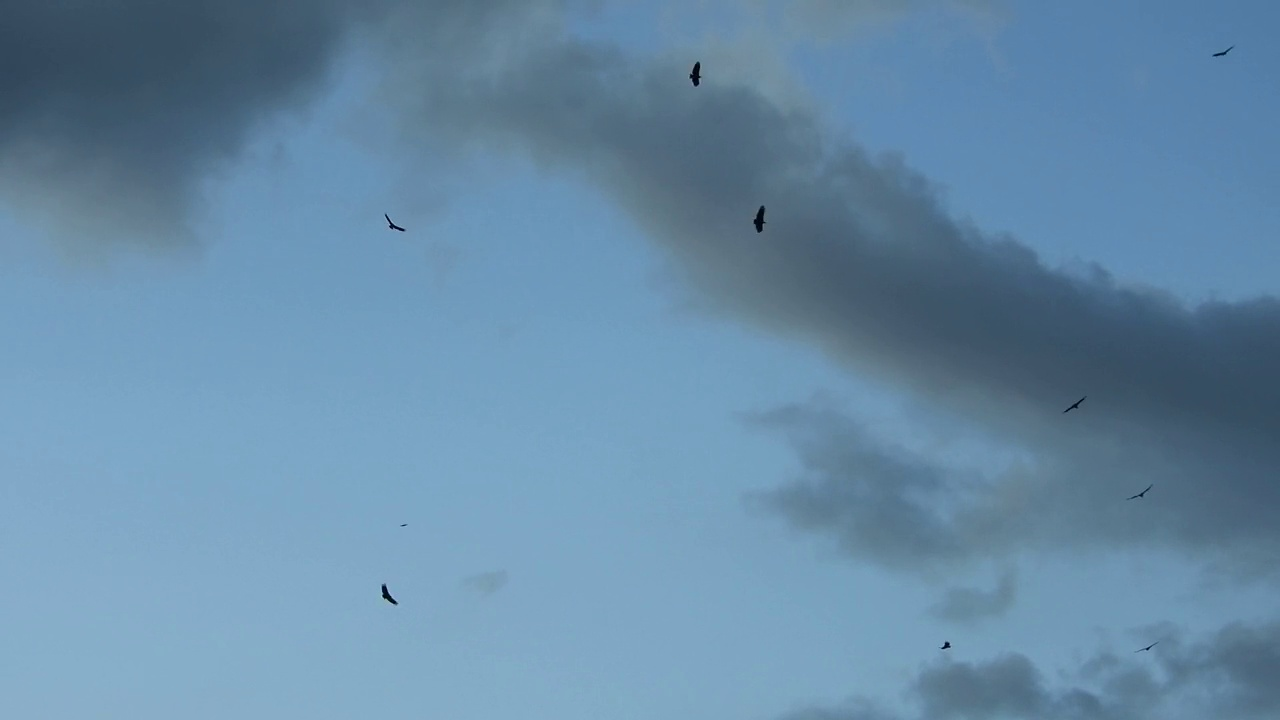bird: (1062, 394, 1086, 415), (1125, 485, 1152, 502), (380, 582, 399, 605), (385, 211, 405, 231), (752, 204, 765, 234), (688, 61, 700, 87), (1211, 45, 1234, 57), (1135, 642, 1159, 653), (938, 639, 950, 649)
